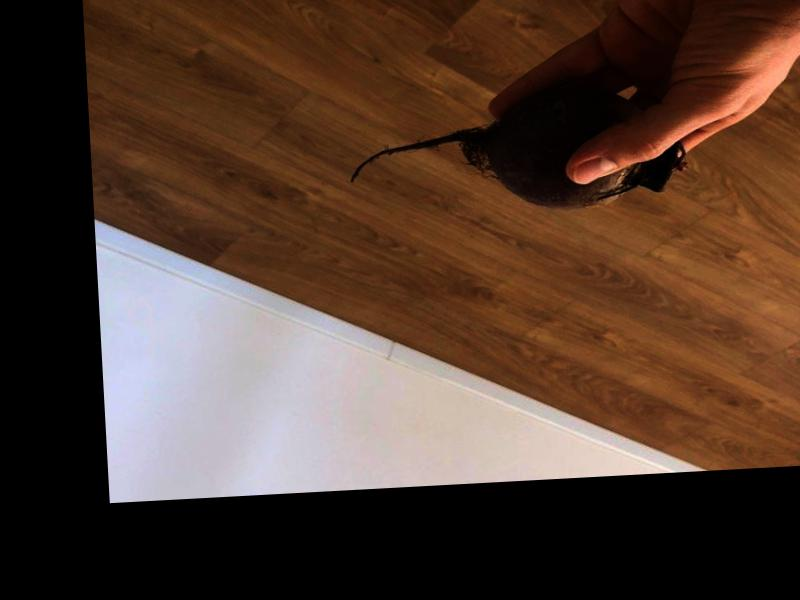Beet: (345, 81, 687, 219)
